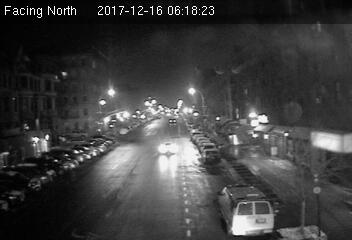car: (158, 141, 179, 156), (202, 148, 221, 164)
police: (215, 182, 276, 236)
